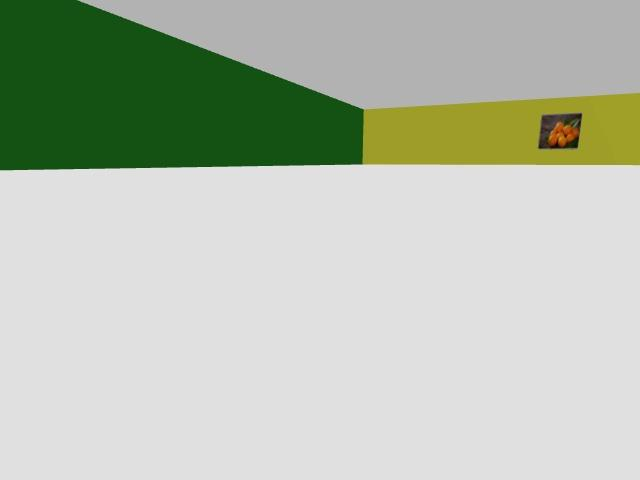orange: (548, 133, 557, 146), (554, 122, 564, 133), (557, 136, 566, 147), (563, 125, 572, 136), (566, 133, 575, 142), (572, 127, 579, 137), (550, 129, 561, 135), (557, 132, 564, 139)
